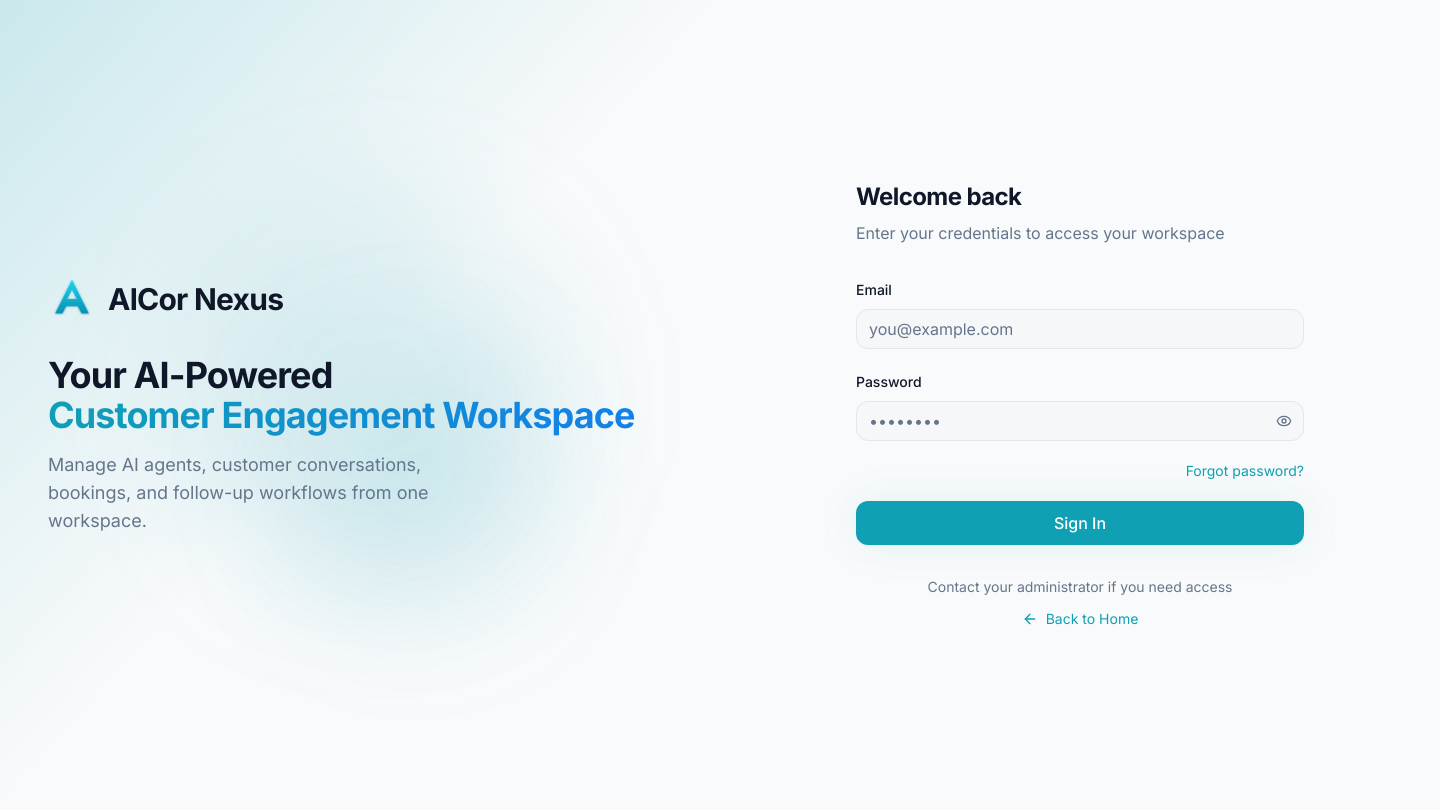
it: Auth Page › Password Visibility Toggle › toggles password visibility when eye button is clicked
Click the button named "show password": point(1284, 421) [1264,401,1304,441]
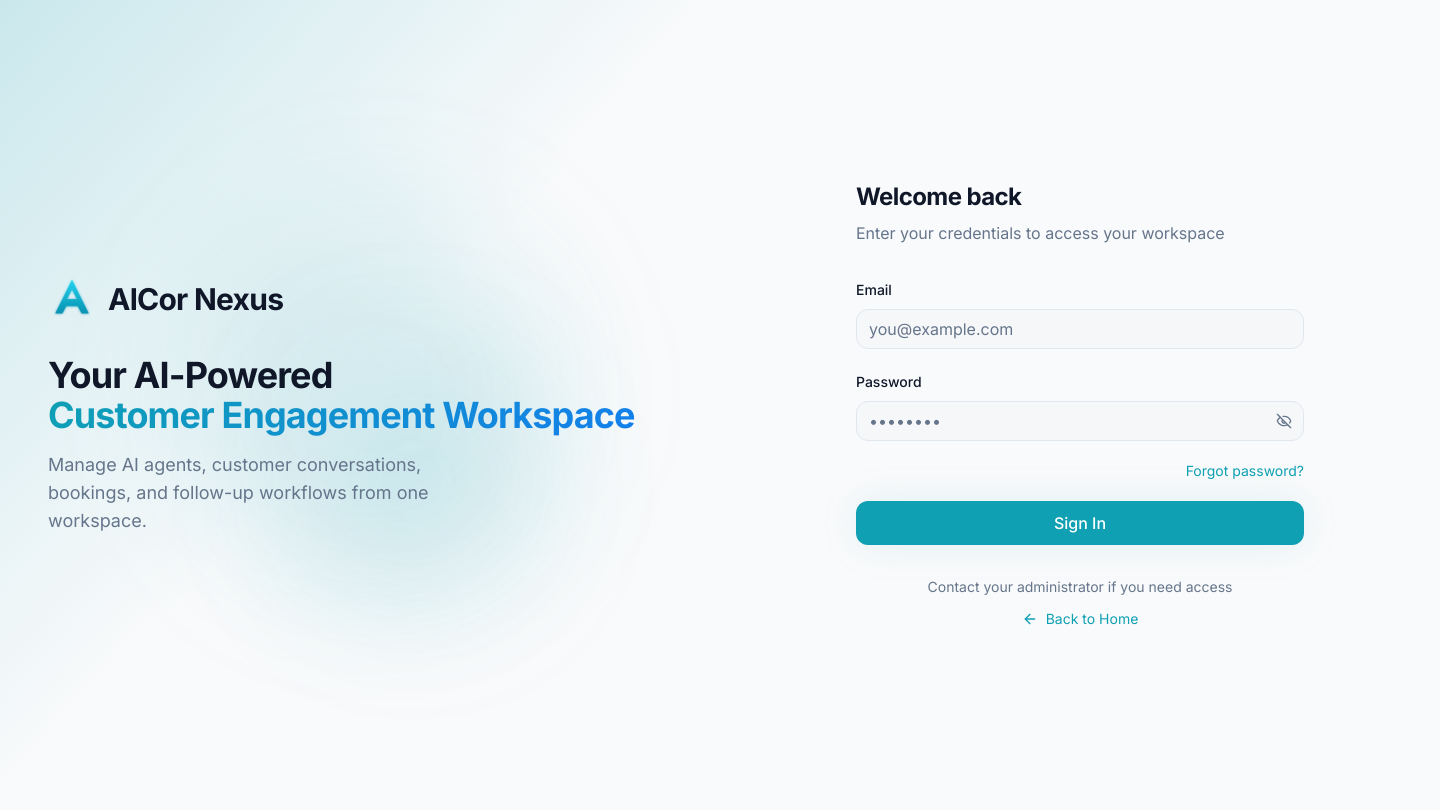
Expected: the button named "show password" has attribute aria-label="Hide password"
Click the button named "show password": point(1284, 421) [1264,401,1304,441]
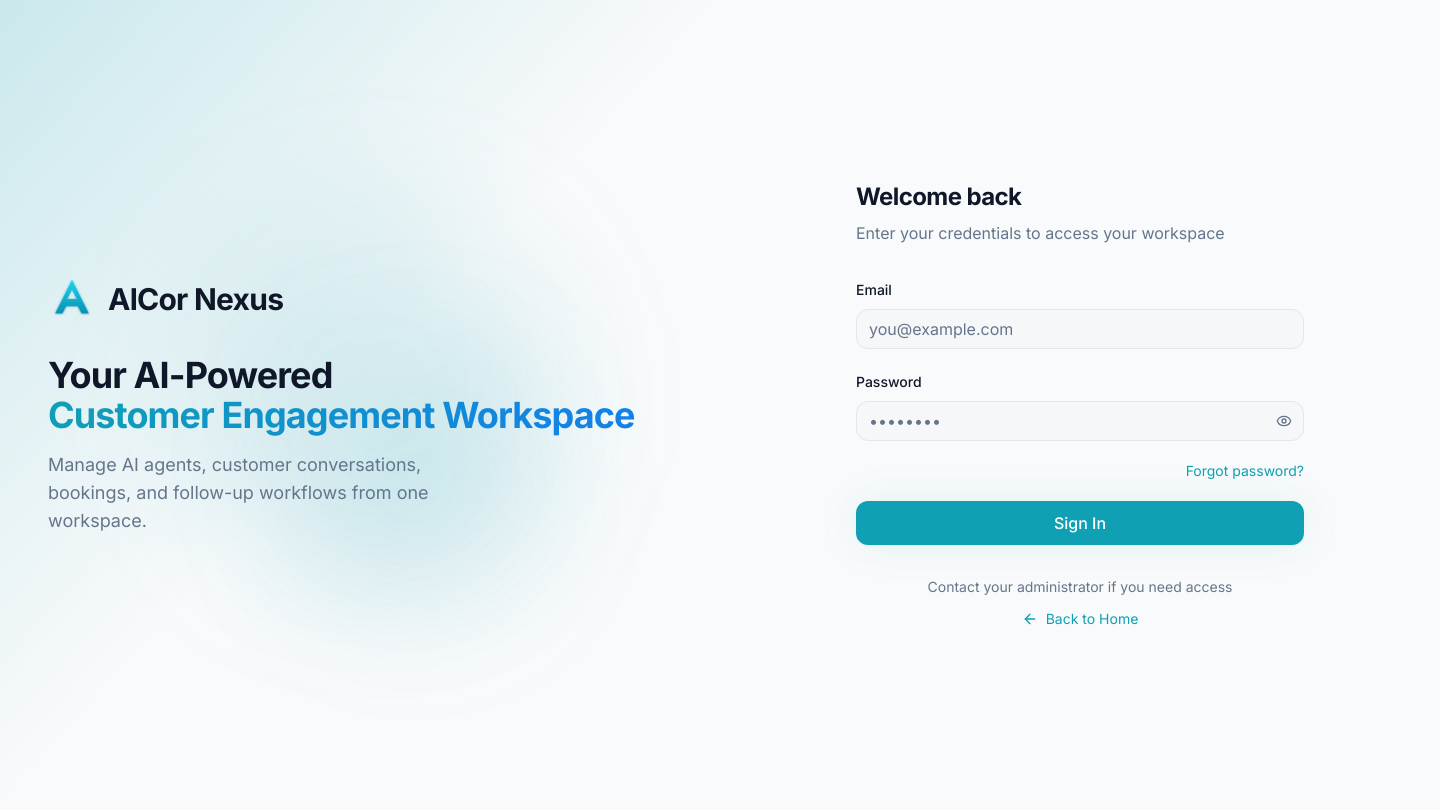
Expected: the button named "show password" has attribute aria-label="Show password", [1264,401,1304,441]
